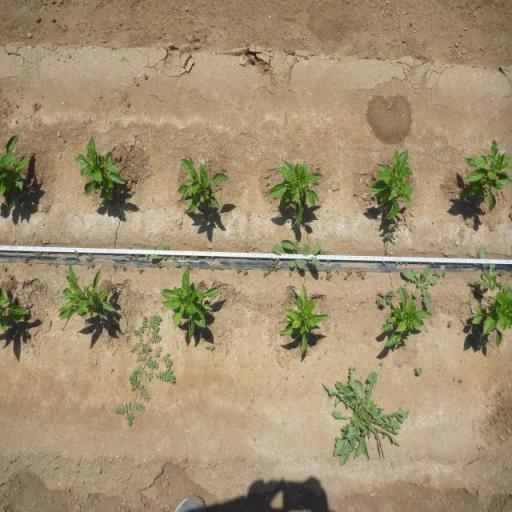plant: (454, 138, 512, 214), (162, 271, 223, 340), (75, 132, 129, 204), (270, 157, 324, 228), (281, 282, 330, 356), (61, 268, 114, 334), (379, 284, 432, 349), (369, 147, 415, 221), (175, 154, 229, 216), (0, 130, 27, 216), (471, 289, 512, 336), (0, 286, 30, 336)
weed: (320, 364, 412, 470), (113, 314, 180, 429), (400, 262, 439, 309), (467, 250, 510, 281), (148, 243, 180, 267), (273, 240, 296, 270), (295, 242, 321, 268), (383, 220, 399, 243), (376, 290, 394, 308), (476, 335, 490, 349), (432, 268, 448, 278), (356, 268, 366, 280), (267, 262, 274, 276), (274, 257, 280, 272), (414, 367, 424, 376), (185, 261, 193, 271), (123, 253, 134, 260), (119, 263, 127, 272), (33, 252, 44, 258), (86, 261, 93, 269), (326, 273, 332, 282), (113, 261, 117, 273), (326, 266, 332, 274), (346, 268, 354, 274), (74, 250, 80, 257), (236, 266, 242, 273), (157, 262, 162, 270), (137, 266, 143, 272), (243, 269, 249, 275), (380, 260, 386, 266), (190, 256, 198, 260), (262, 270, 266, 278), (448, 320, 452, 328), (344, 275, 349, 280)
